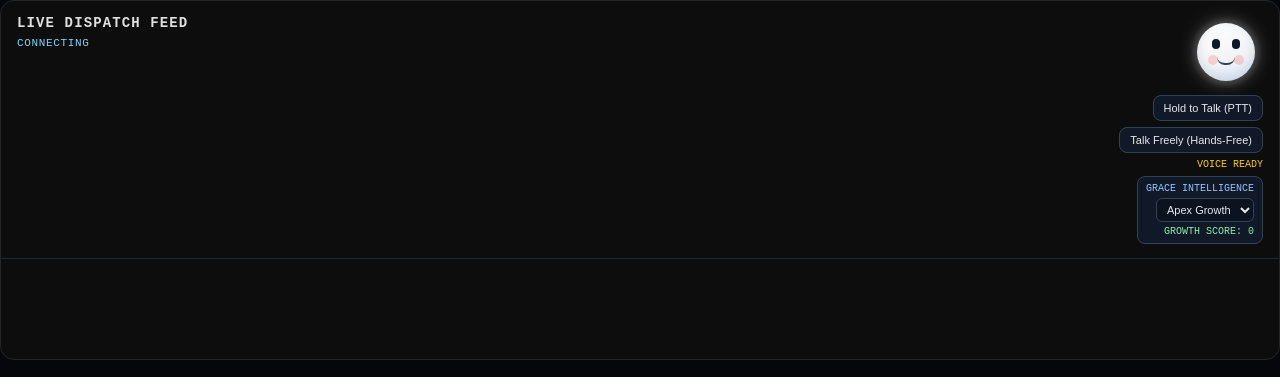
Test case: DispatchFeed › disables hands-free retries on terminal recognition errors
Click the button "Talk Freely (Hands-Free)".
click(1191, 140)  # box [1119,127,1263,153]
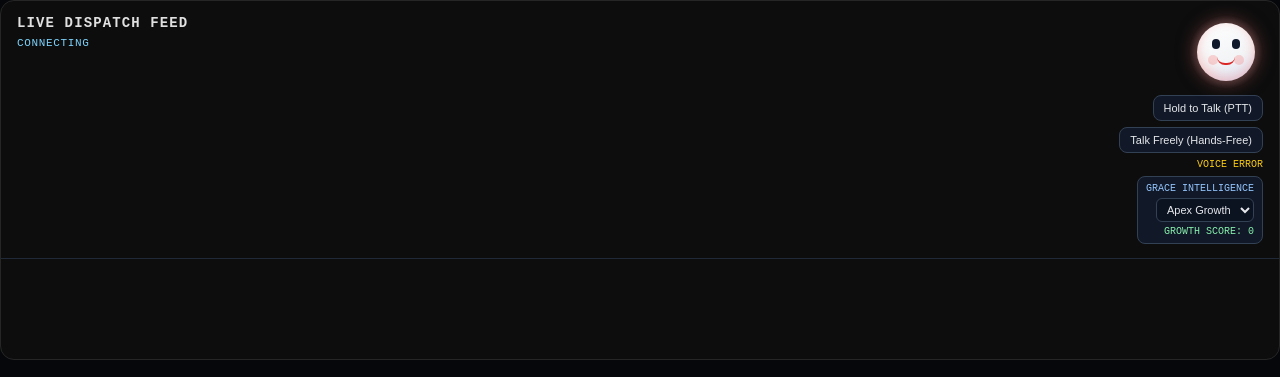
Now the text "Voice Error" is shown, box [1197,159,1263,170]
